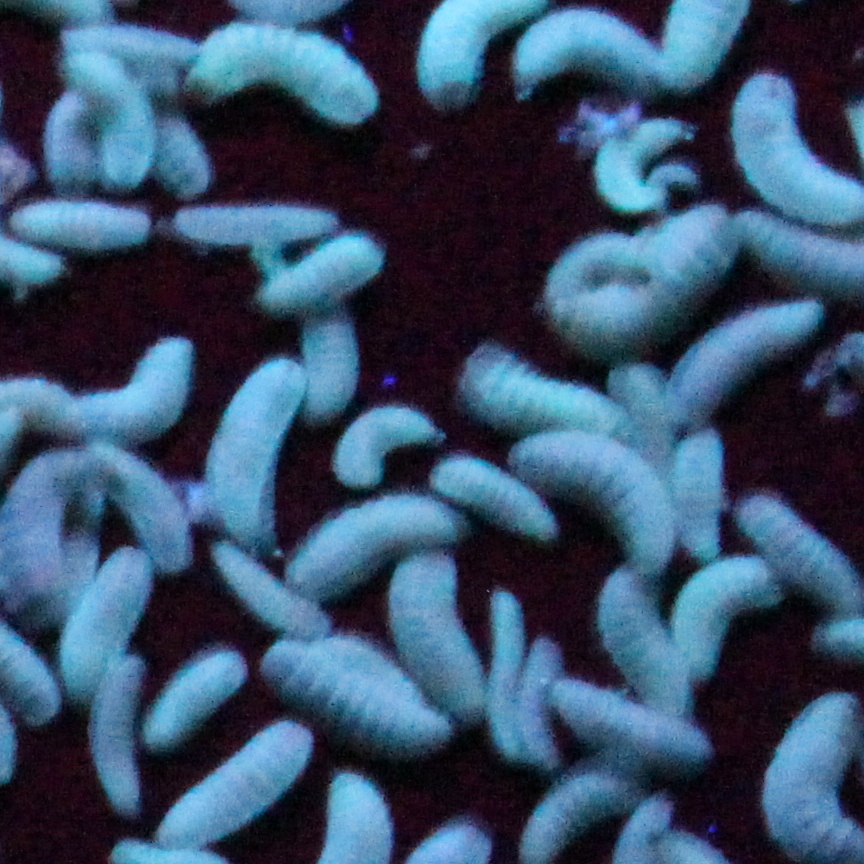larve: (292, 504, 453, 614), (544, 434, 671, 573), (721, 82, 848, 211), (677, 301, 815, 419), (270, 657, 438, 753), (387, 562, 493, 713), (564, 227, 709, 336), (180, 734, 316, 848), (553, 683, 713, 776), (207, 368, 293, 541), (57, 51, 166, 184), (597, 564, 689, 713), (91, 447, 199, 570), (190, 33, 366, 102), (514, 8, 654, 93), (68, 553, 152, 684), (471, 354, 608, 432), (441, 452, 554, 542), (479, 595, 538, 760), (155, 651, 252, 748), (222, 548, 323, 641), (13, 199, 158, 261), (520, 774, 627, 858), (258, 245, 388, 314), (757, 508, 854, 598), (86, 358, 202, 431), (683, 564, 767, 662), (165, 203, 339, 249), (327, 411, 453, 473), (516, 629, 572, 766), (607, 116, 682, 208), (669, 432, 721, 560), (101, 659, 142, 814)
